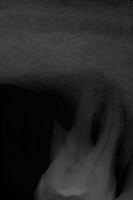Dental Caries: (15, 69, 133, 170)
